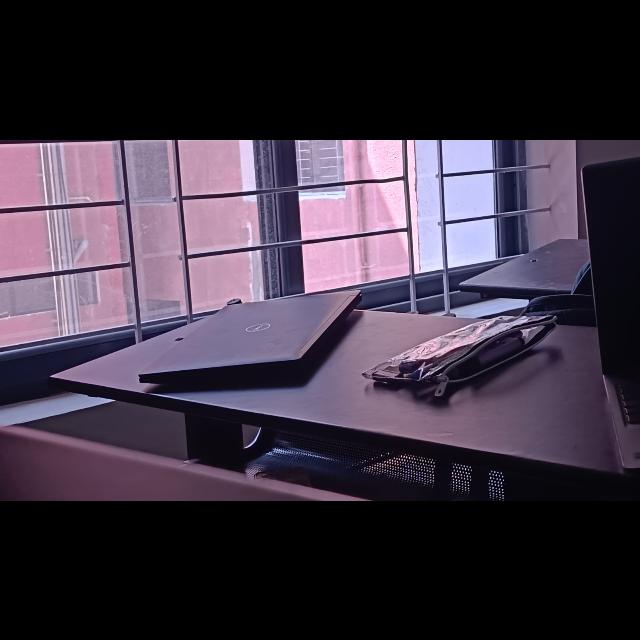laptop: (135, 278, 365, 390)
